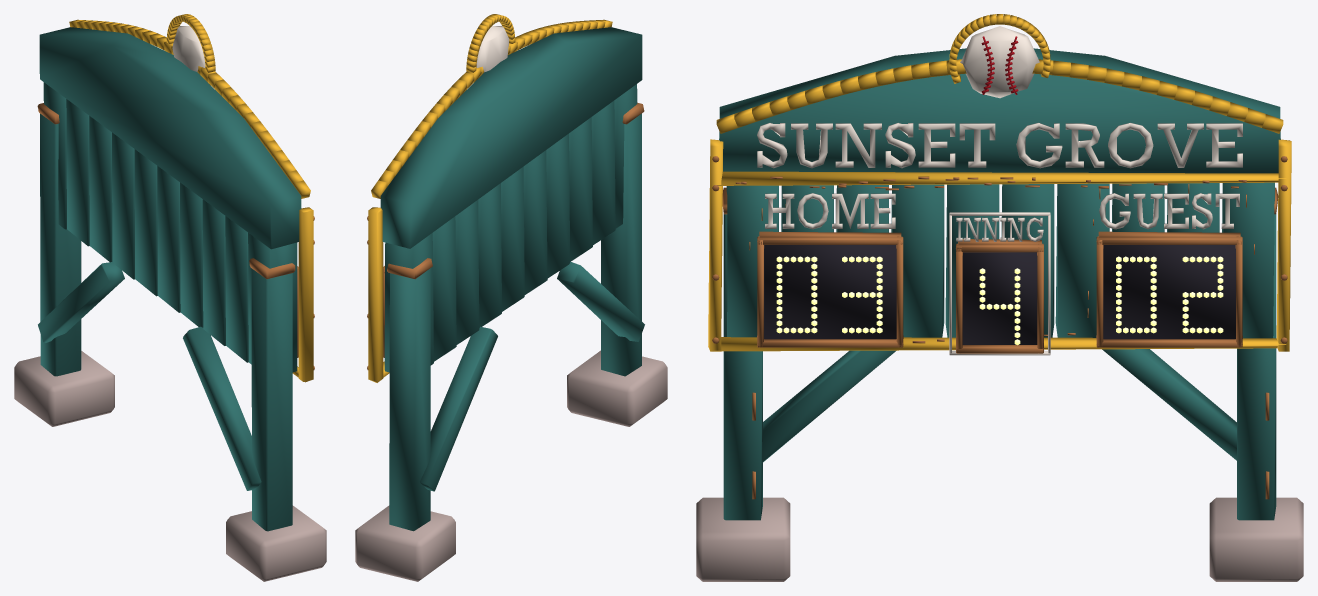
The picture shows the model from 3 angles, left to right: view 1: azimuth 30°, elevation 25°; view 2: azimuth 150°, elevation 25°; view 3: azimuth 270°, elevation 25°; orthographic projection. The views are drawn at different scales.
Parts seen in each view (by area): view 1: body; view 2: body; view 3: body.
Part boxes in pixels (x1,y1,x2,y2): body: (14,14,326,581); body: (355,14,667,581); body: (696,14,1303,581).
Bounding box in the file's own units: 0.6514 × 4.27 × 4.19.
